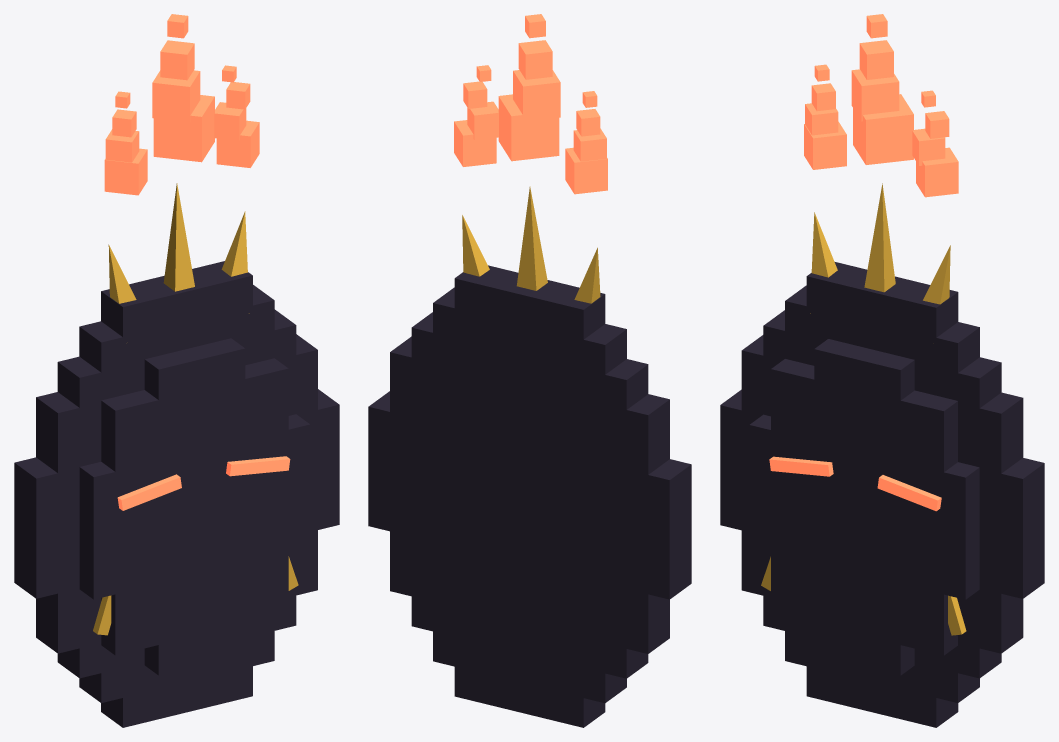
3 views of the same model, side by side, from view 1: azimuth 30°, elevation 25°; view 2: azimuth 150°, elevation 25°; view 3: azimuth 330°, elevation 25° (orthographic).
Parts seen in each view (by area): view 1: R047_Main, R047_Aura_Flames, R047_Trim, R047_Glow; view 2: R047_Main, R047_Aura_Flames, R047_Trim; view 3: R047_Main, R047_Aura_Flames, R047_Trim, R047_Glow.
Boxes of the visible parts, left/top/right/bottom form: R047_Main: left=14, top=261, right=339, bottom=727; R047_Aura_Flames: left=104, top=14, right=259, bottom=195; R047_Trim: left=93, top=183, right=298, bottom=635; R047_Glow: left=117, top=456, right=290, bottom=510; R047_Main: left=368, top=265, right=691, bottom=727; R047_Aura_Flames: left=454, top=14, right=607, bottom=194; R047_Trim: left=462, top=186, right=600, bottom=303; R047_Main: left=720, top=262, right=1044, bottom=727; R047_Aura_Flames: left=804, top=14, right=958, bottom=197; R047_Trim: left=761, top=183, right=966, bottom=635; R047_Glow: left=769, top=456, right=941, bottom=511.
Size of the model in its own units: 1.12 by 2.43 by 0.2781.
